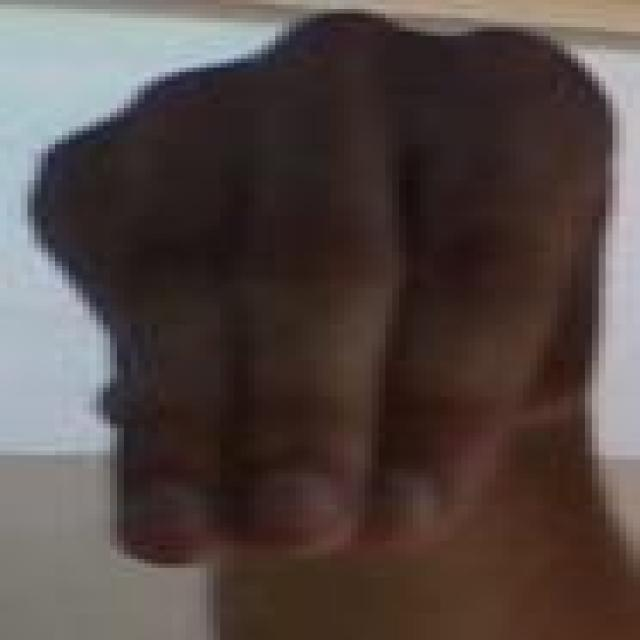M: (6, 9, 622, 572)
